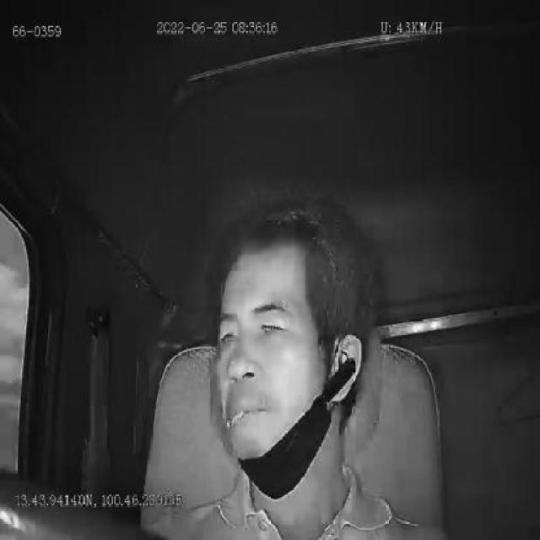smoking: (225, 408, 243, 432)
